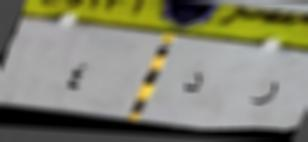4: (65, 60, 91, 94)
daal: (177, 66, 206, 103)
raa: (247, 73, 280, 112)
